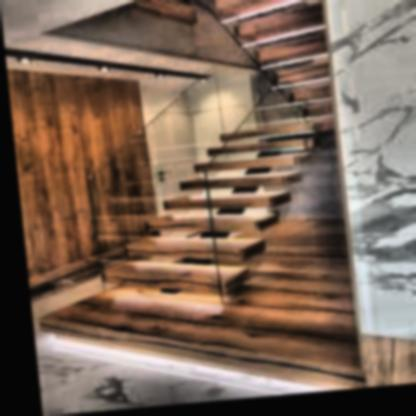stair: (112, 112, 301, 341)
